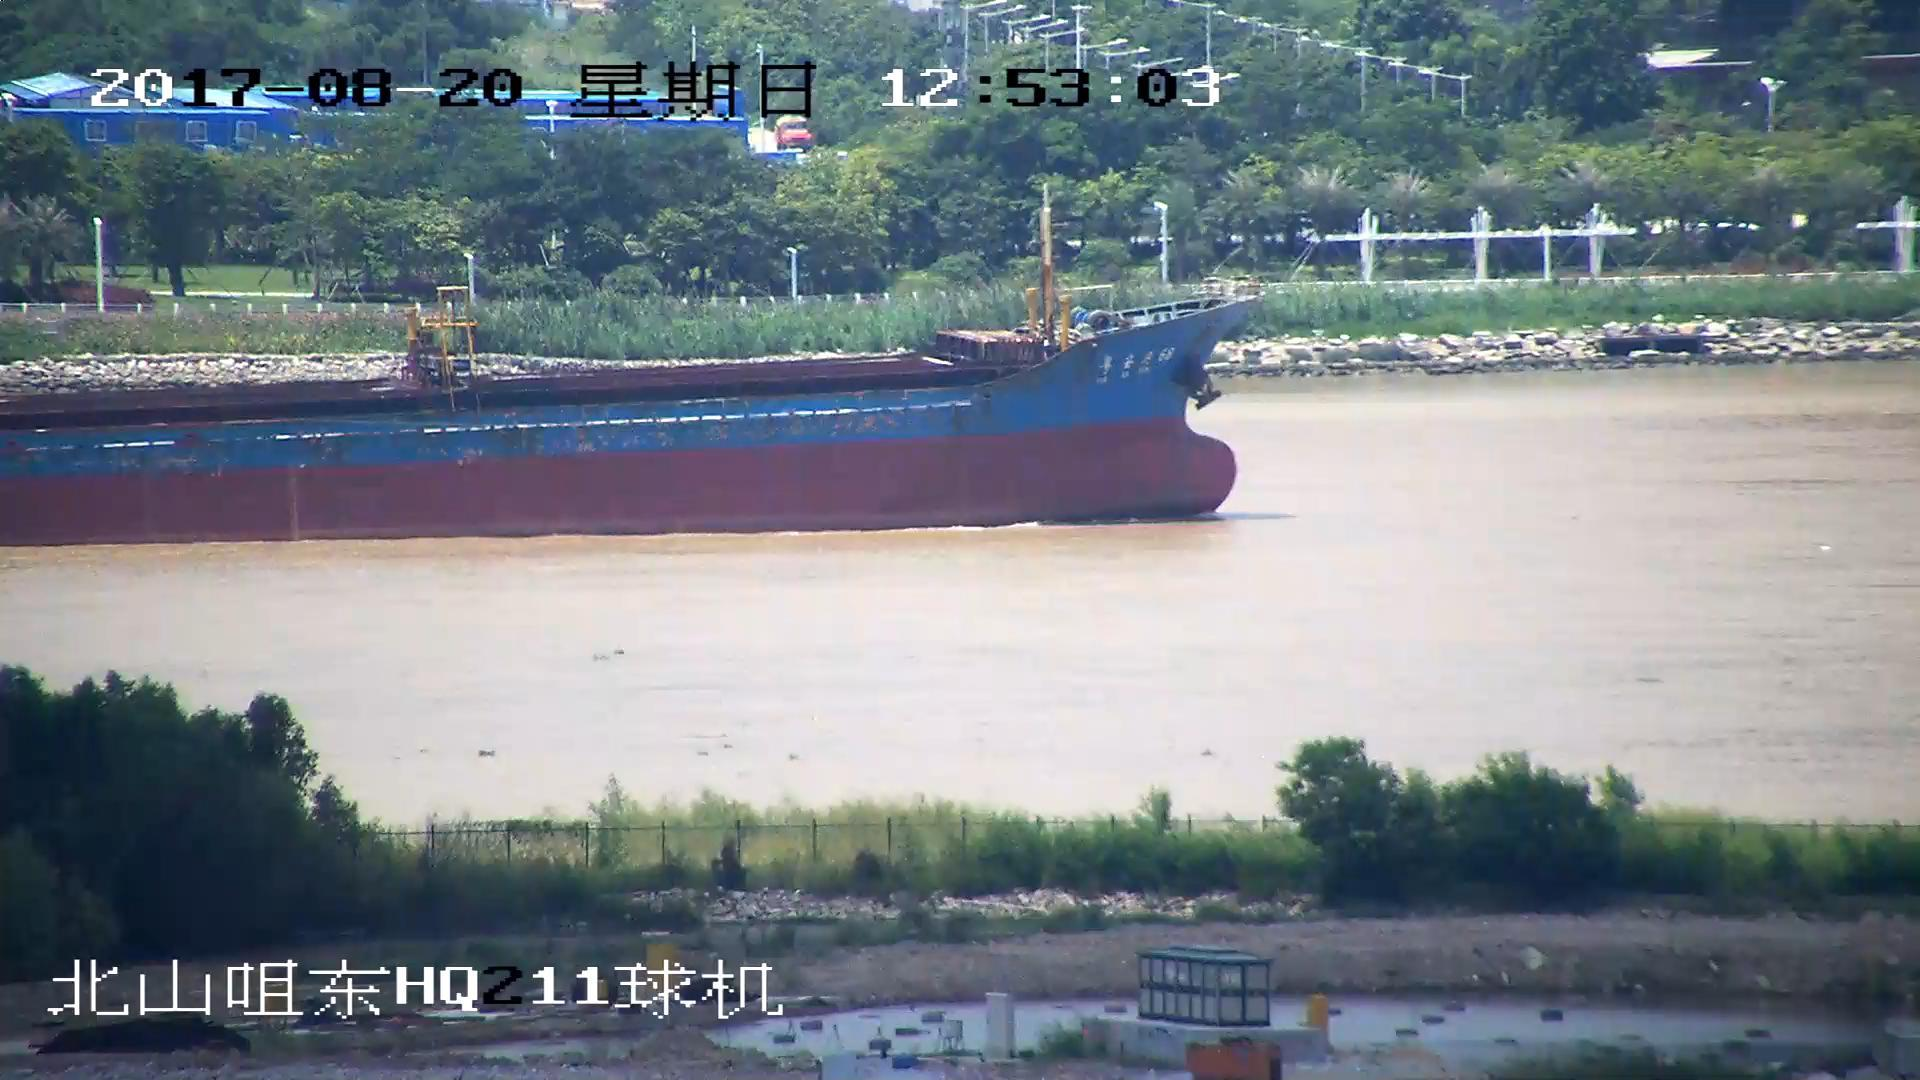Ship: (3, 282, 1254, 538)
